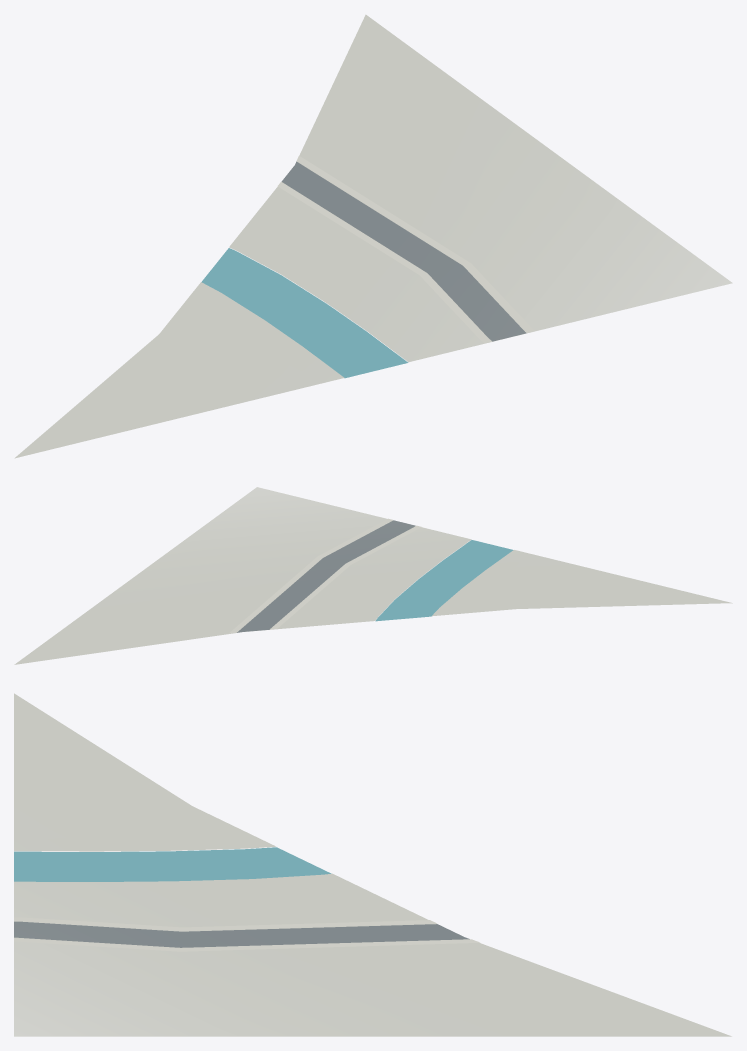
The picture shows the model from 3 angles, top to bottom: view 1: azimuth 30°, elevation 25°; view 2: azimuth 150°, elevation 25°; view 3: azimuth 270°, elevation 25°; orthographic projection. The views are drawn at different scales.
Parts seen in each view (by area): view 1: city; view 2: city; view 3: city.
Boxes of the visible parts, left/top/right/bottom form: city: left=14, top=14, right=732, bottom=458; city: left=14, top=487, right=732, bottom=664; city: left=14, top=693, right=731, bottom=1036.
Size of the model in its own units: 270 by 0.4 by 239.
